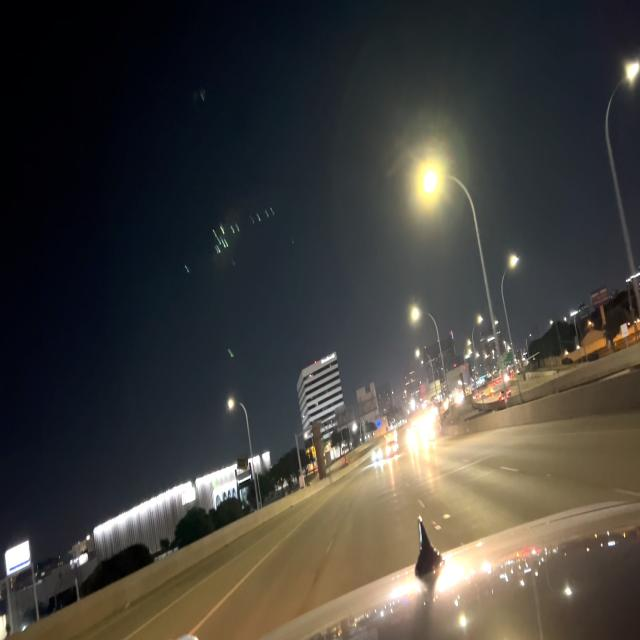back-of-sign: (357, 380, 379, 424), (336, 402, 356, 432)
